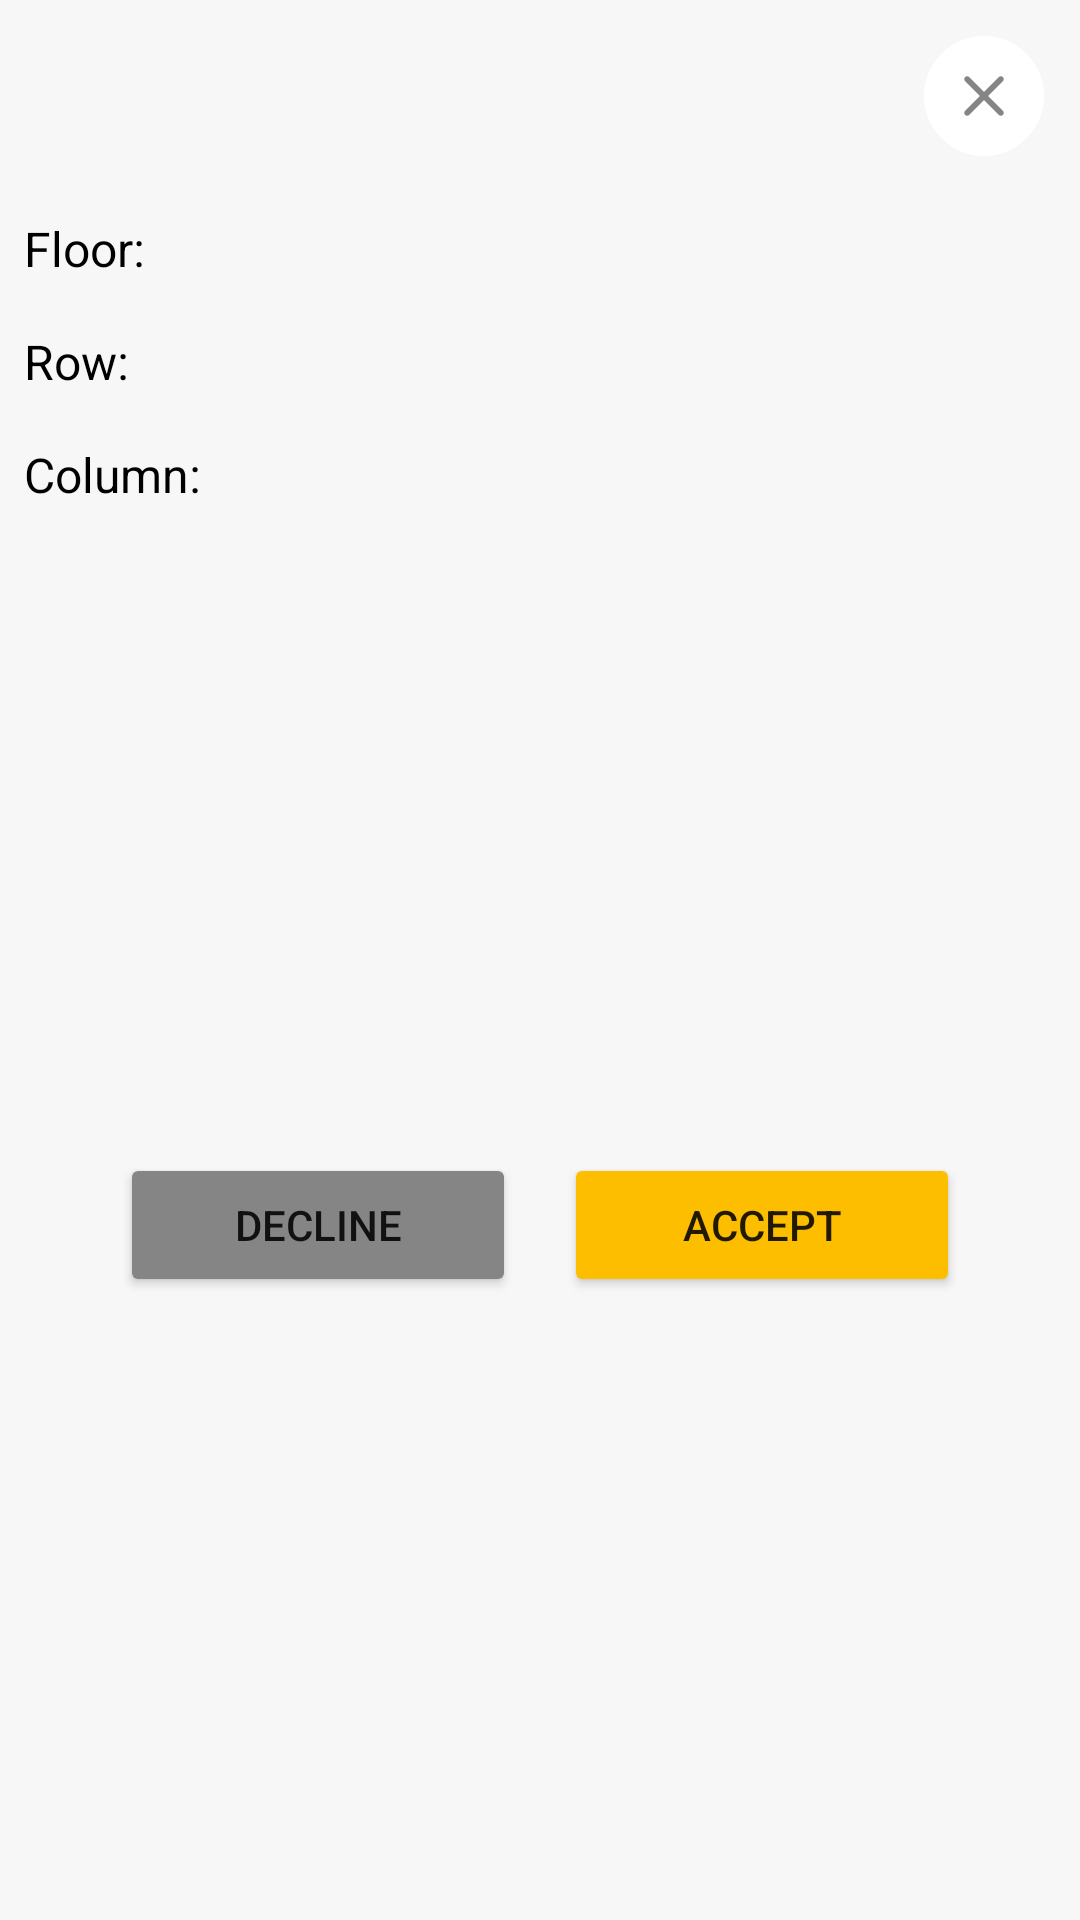

Point at icon controls on the screen. Image size 1080×1920, points as point (x, y).
close: point (984, 96)
